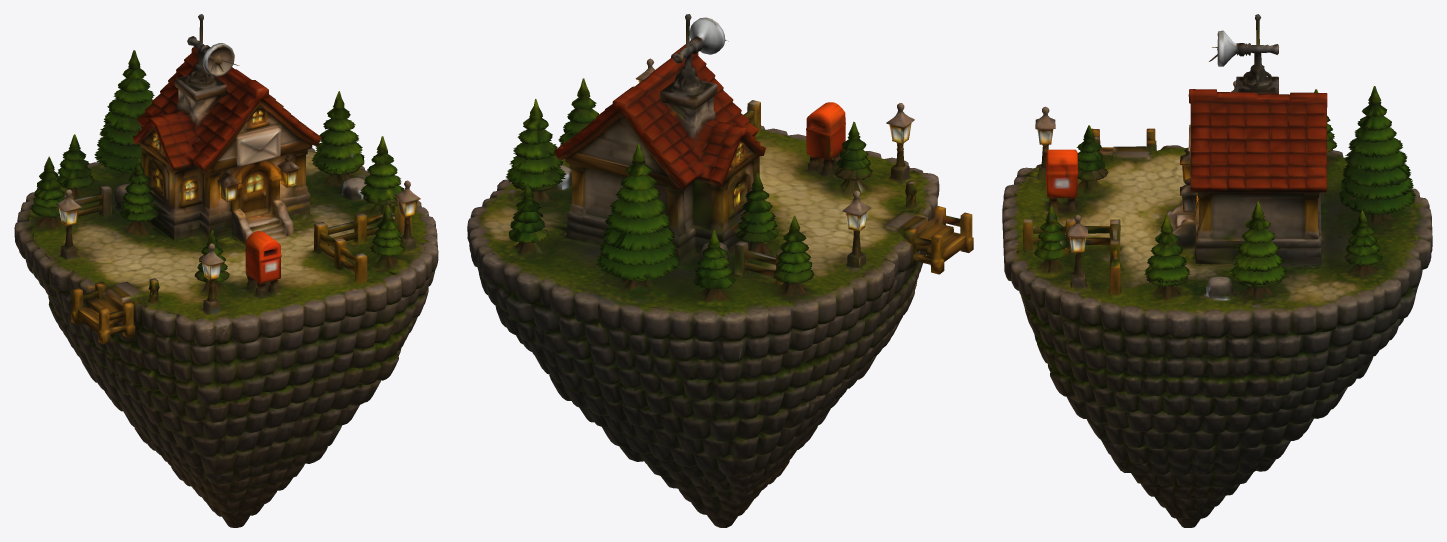
The model's file is contact.glb.
3 views of the same model, side by side, from view 1: azimuth 30°, elevation 25°; view 2: azimuth 150°, elevation 25°; view 3: azimuth 270°, elevation 25° (orthographic). The views are drawn at different scales.
Visible parts, largest first — view 1: node_0; view 2: node_0; view 3: node_0.
Boxes of the visible parts, bbox=[...] form: node_0: bbox=[14, 14, 438, 527]; node_0: bbox=[467, 14, 973, 527]; node_0: bbox=[1002, 14, 1432, 527].
Size of the model in its own units: 0.9162 by 1.19 by 0.9065.
Materials: 1 (1 with a texture image).
